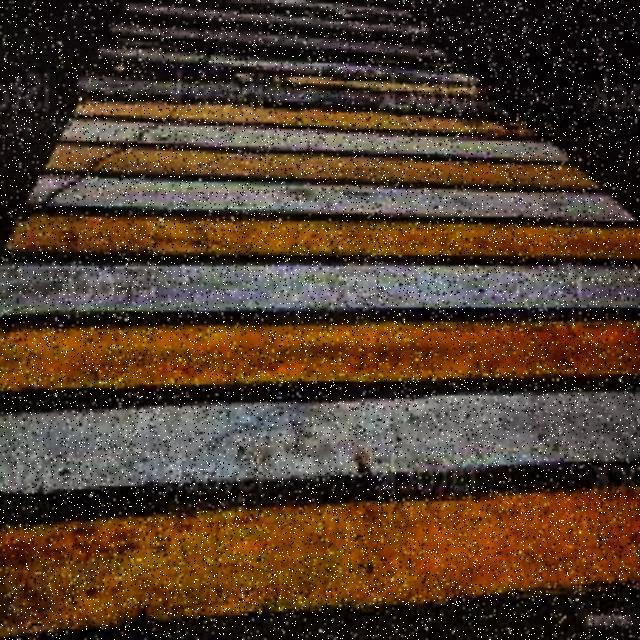Pedestrian crosswalk: (1, 0, 637, 637)
